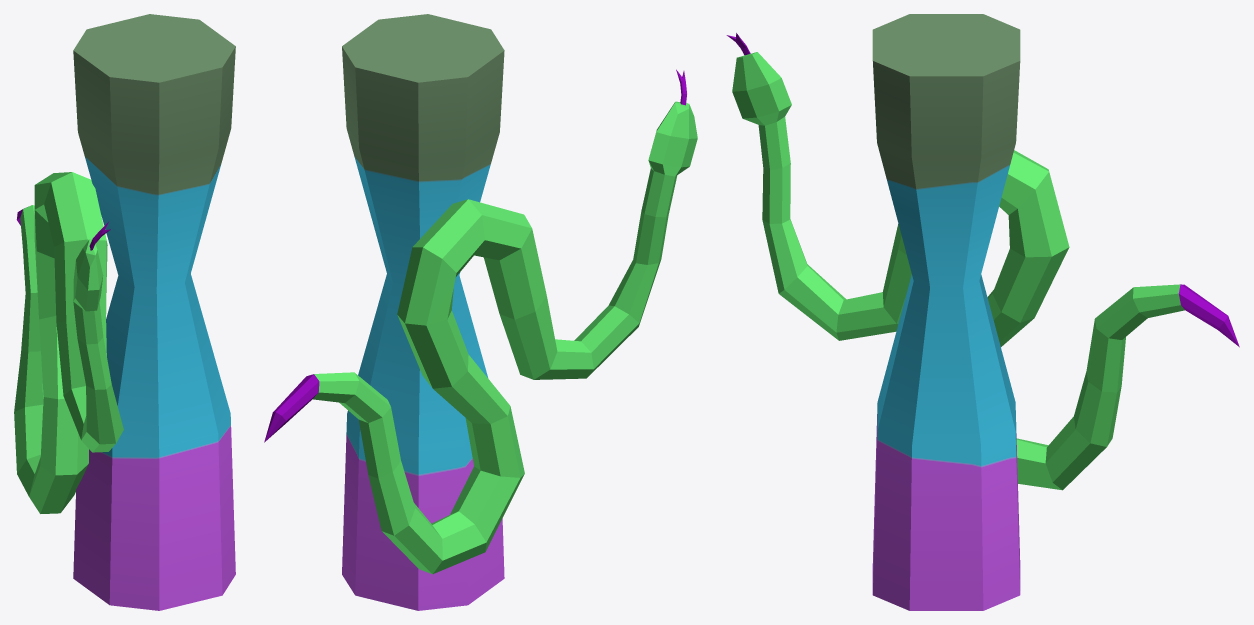
File: 034_Snake.fbx
3 renders of one model, left to right at view 1: azimuth 30°, elevation 25°; view 2: azimuth 150°, elevation 25°; view 3: azimuth 270°, elevation 25°, orthographic.
Visible parts, largest first — view 1: snake; view 2: snake; view 3: snake.
Boxes of the visible parts, x1=… form: snake: x1=14, y1=14, x2=235, y2=610; snake: x1=264, y1=14, x2=697, y2=610; snake: x1=726, y1=14, x2=1239, y2=610.
Bounding box in the file's own units: 46.47 × 100 × 87.08.
